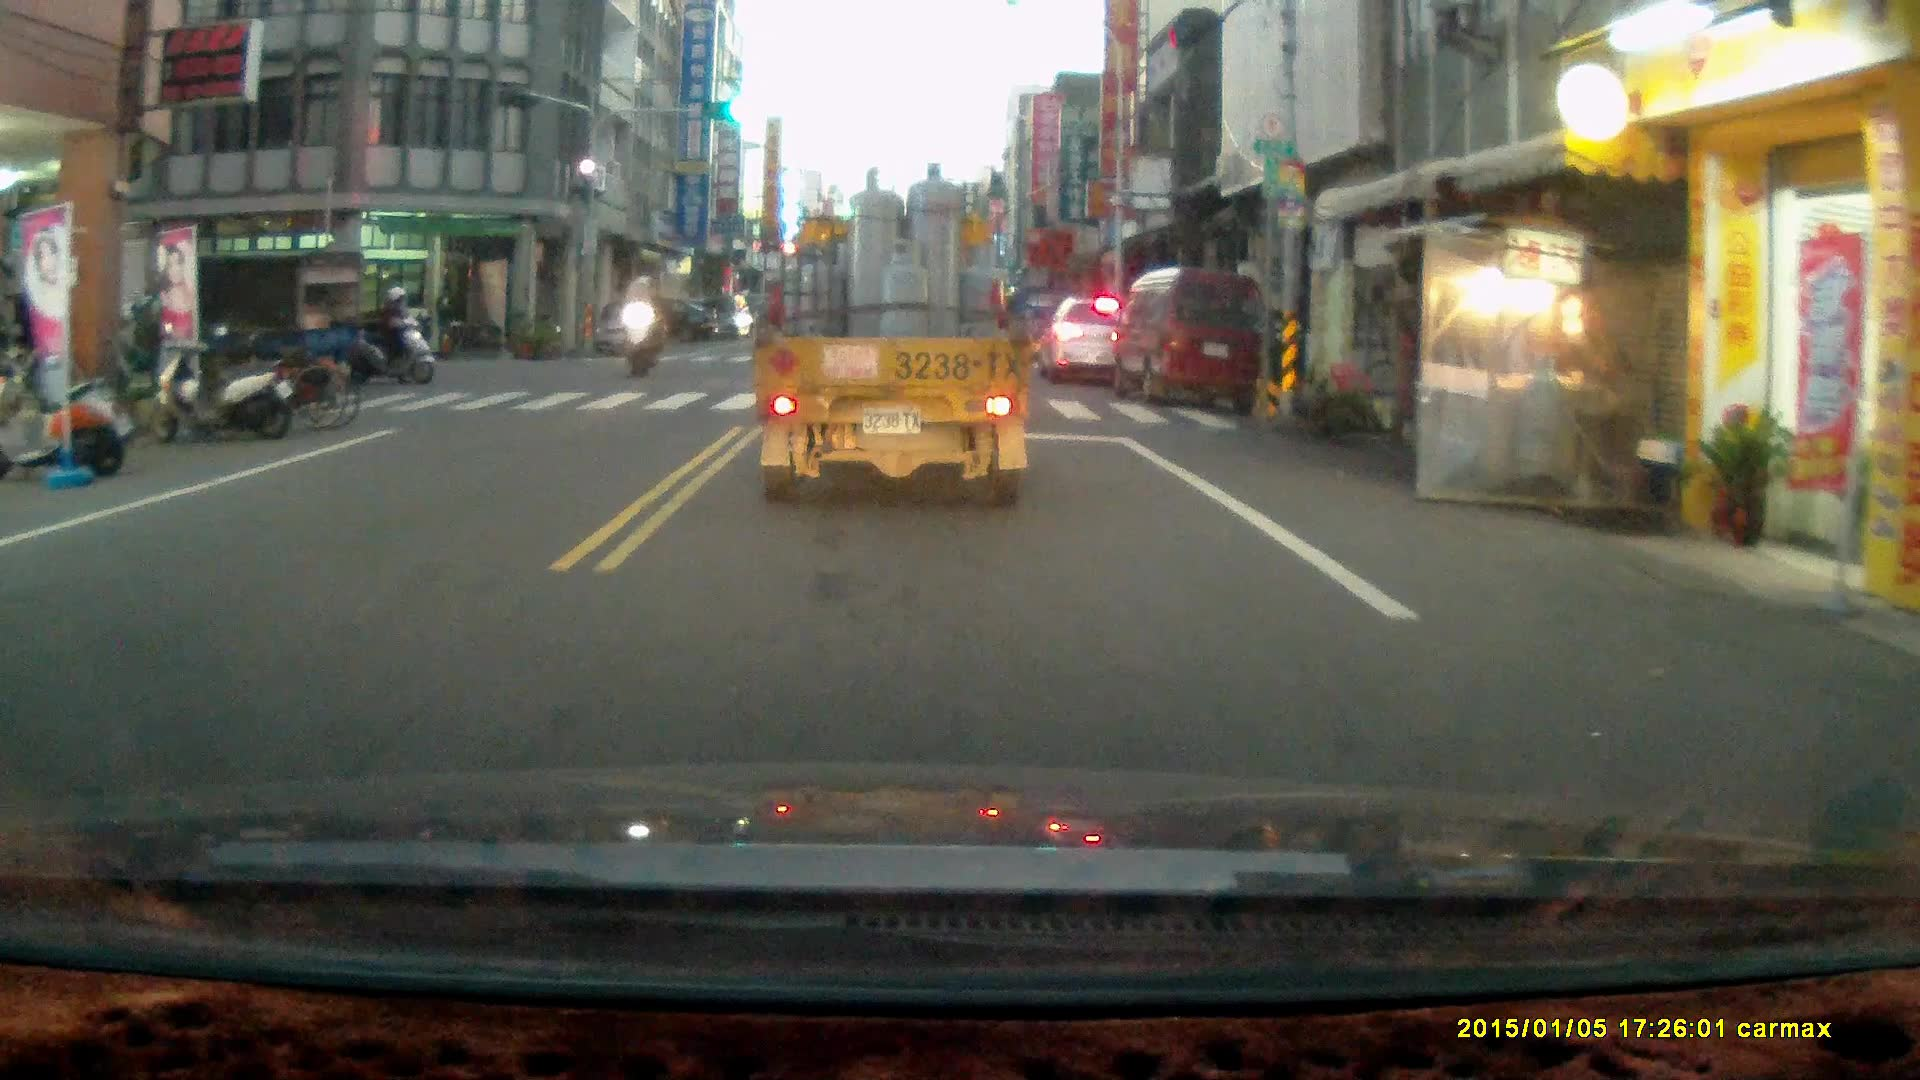pedestrian: (432, 279, 459, 360)
rider: (354, 283, 437, 386), (615, 272, 666, 379)
vehicle: (753, 164, 1028, 511), (98, 247, 370, 400), (1110, 266, 1270, 415), (1044, 291, 1139, 385), (595, 296, 673, 357), (681, 291, 748, 338)
